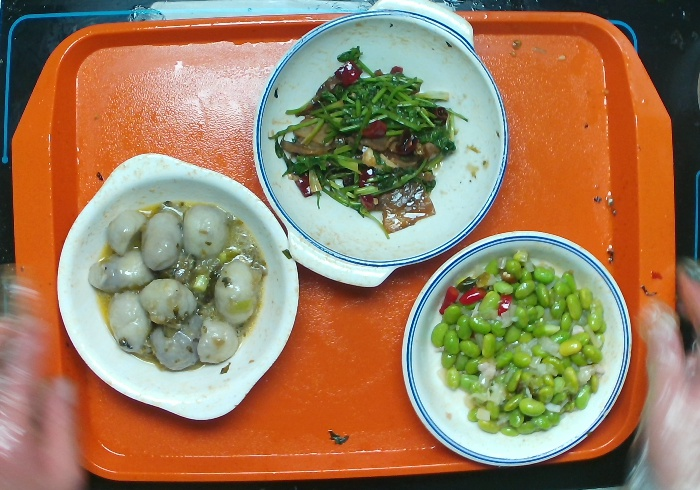HZYJPL-Dai_Er_Bai_Yuan_Wan: (52, 149, 304, 424)
HZYJPL-Lan_Bian_Dai_Er_Wan: (250, 1, 513, 291)
HZYJPL-Lan_Bian_Yuan_Die: (397, 227, 636, 472)
